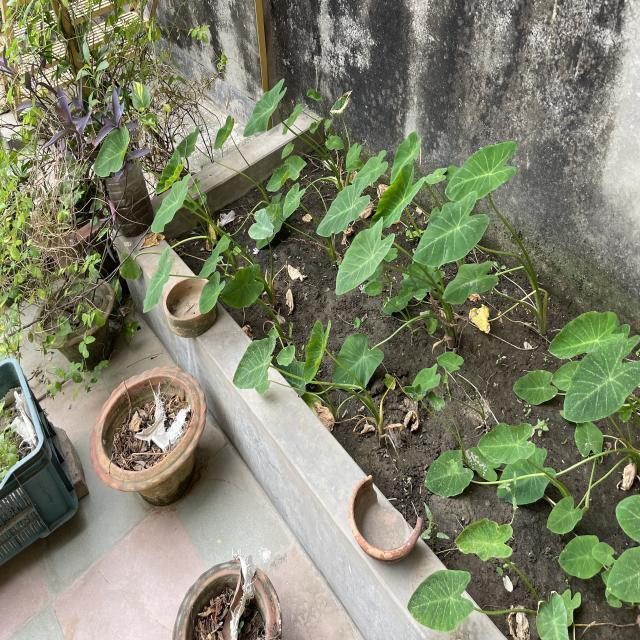Breeding Place: (99, 108, 640, 640), (0, 356, 72, 576), (90, 369, 202, 504), (174, 559, 282, 640), (36, 276, 116, 358), (352, 476, 422, 564), (108, 129, 144, 258), (165, 273, 211, 331)
